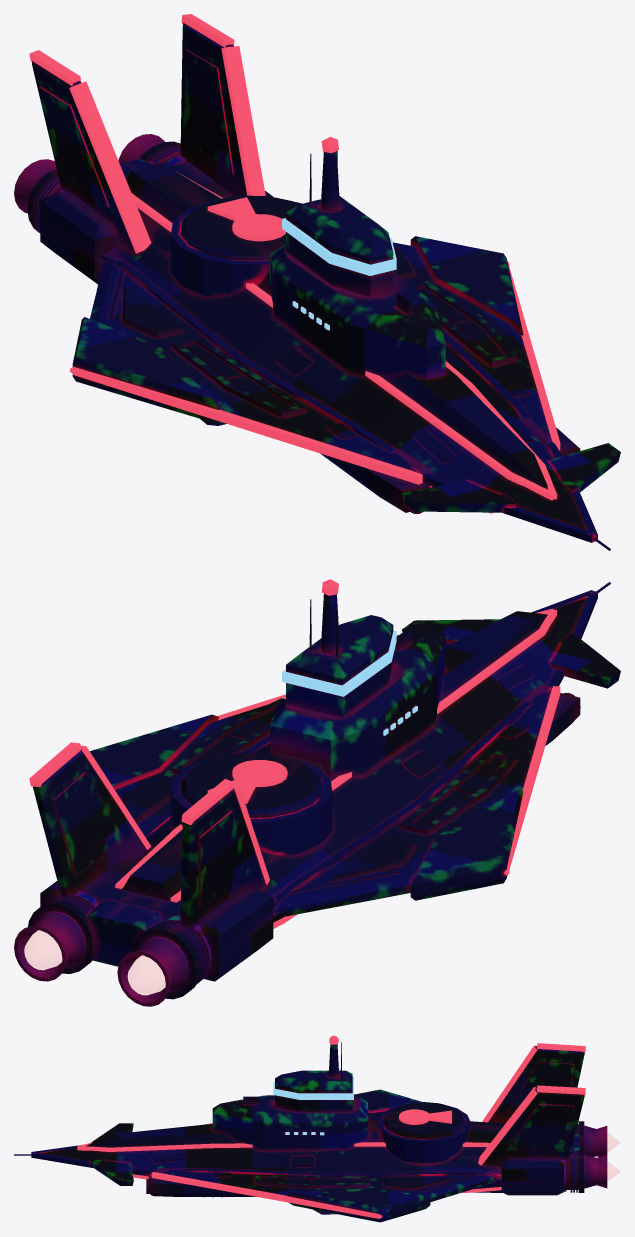
The model's file is seal.glb.
3 views of the same model, one above another, from view 1: azimuth 30°, elevation 25°; view 2: azimuth 150°, elevation 25°; view 3: azimuth 270°, elevation 25° (orthographic). The views are drawn at different scales.
Parts seen in each view (by area): view 1: seal; view 2: seal; view 3: seal.
Part boxes in pixels (<box>): seal: <box>14,14,620,550</box>; seal: <box>14,579,620,1006</box>; seal: <box>14,1035,620,1222</box>.
Size of the model in its own units: 4.67 by 2.76 by 9.77.
Materials: 14 (10 with a texture image).
